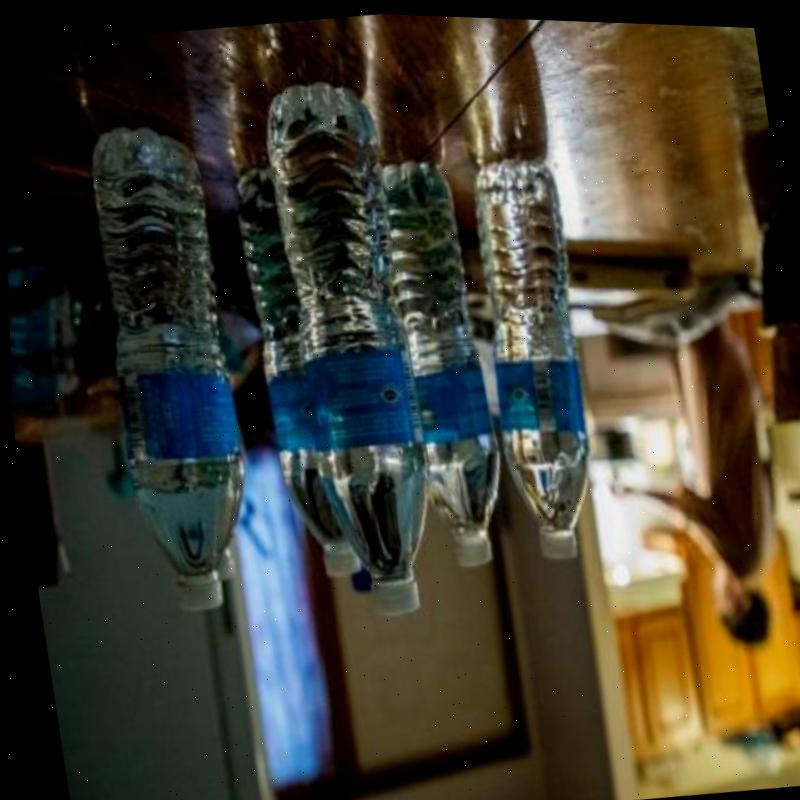botella: (255, 66, 453, 627), (70, 117, 268, 616), (454, 144, 615, 565), (372, 146, 512, 571), (231, 157, 360, 578)
